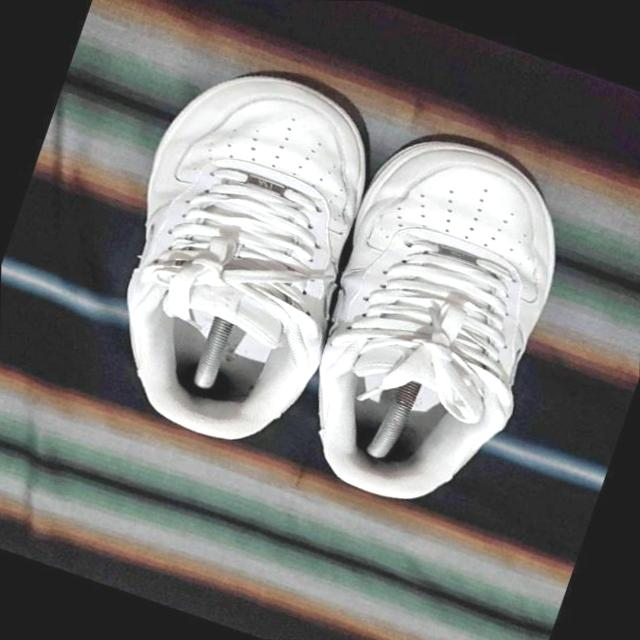nike_original_airforce: (271, 113, 598, 532)
